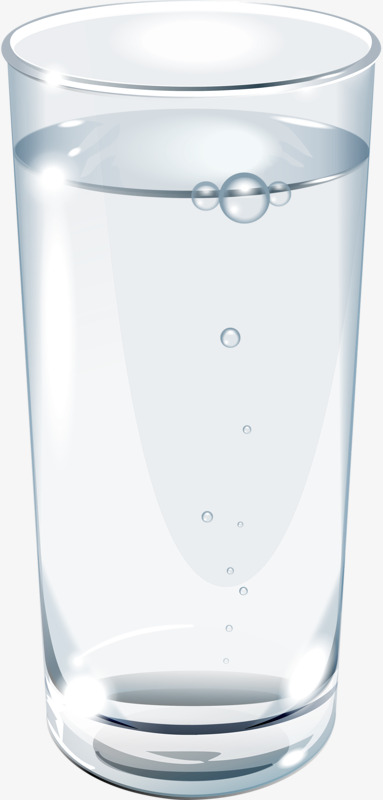glass of water: (1, 1, 375, 784)
